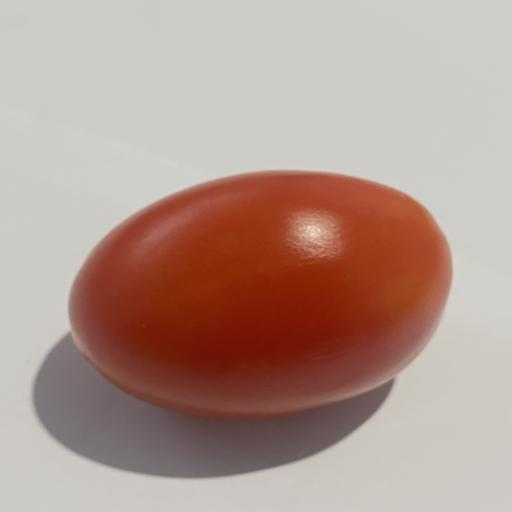ripe: (69, 171, 452, 418)
